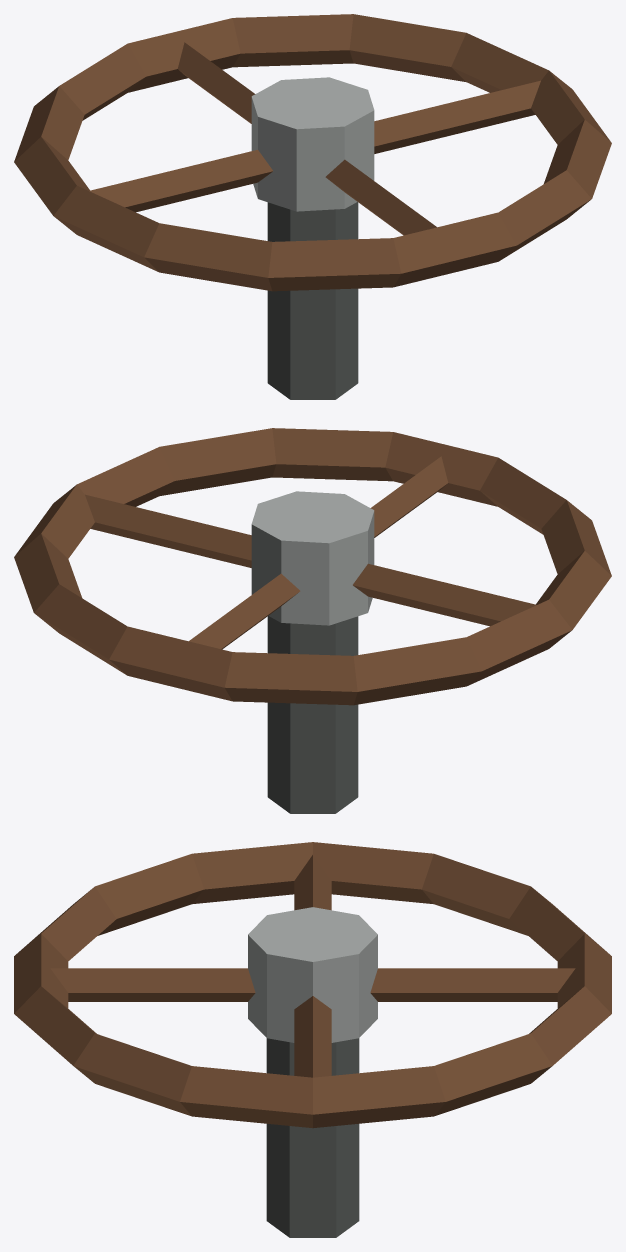
Rendered from valve_wheel.glb.
The picture shows the model from 3 angles, top to bottom: view 1: azimuth 30°, elevation 25°; view 2: azimuth 150°, elevation 25°; view 3: azimuth 270°, elevation 25°; orthographic projection. The views are drawn at different scales.
Visible parts, largest first — view 1: surf_climb_valve_wheel; view 2: surf_climb_valve_wheel; view 3: surf_climb_valve_wheel.
Part boxes in pixels (x1,y1,x2,y2): surf_climb_valve_wheel: (14, 14, 611, 399); surf_climb_valve_wheel: (14, 428, 611, 813); surf_climb_valve_wheel: (14, 842, 611, 1237).
Bounding box in the file's own units: 0.33 × 0.17 × 0.3217.
